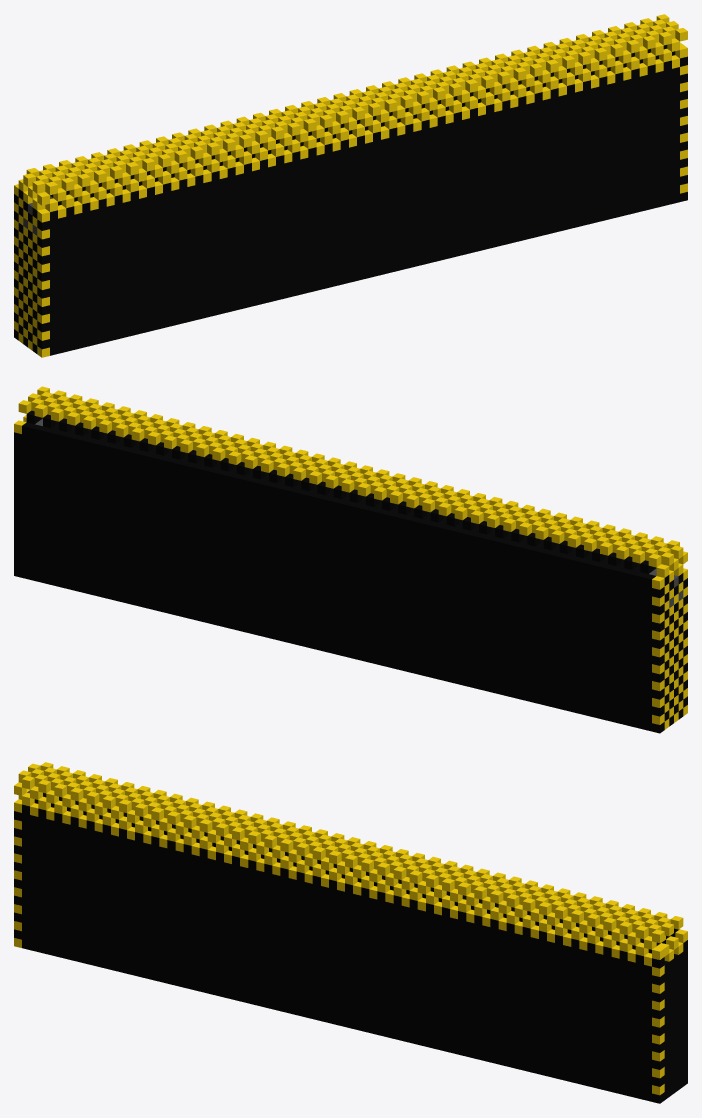
File: goldenvoxelwall-0.obj
3 renders of one model, top to bottom at view 1: azimuth 30°, elevation 25°; view 2: azimuth 150°, elevation 25°; view 3: azimuth 330°, elevation 25°, orthographic.
Size of the model in its own units: 16 by 4 by 1.2.
Materials: 1 (1 with a texture image).
